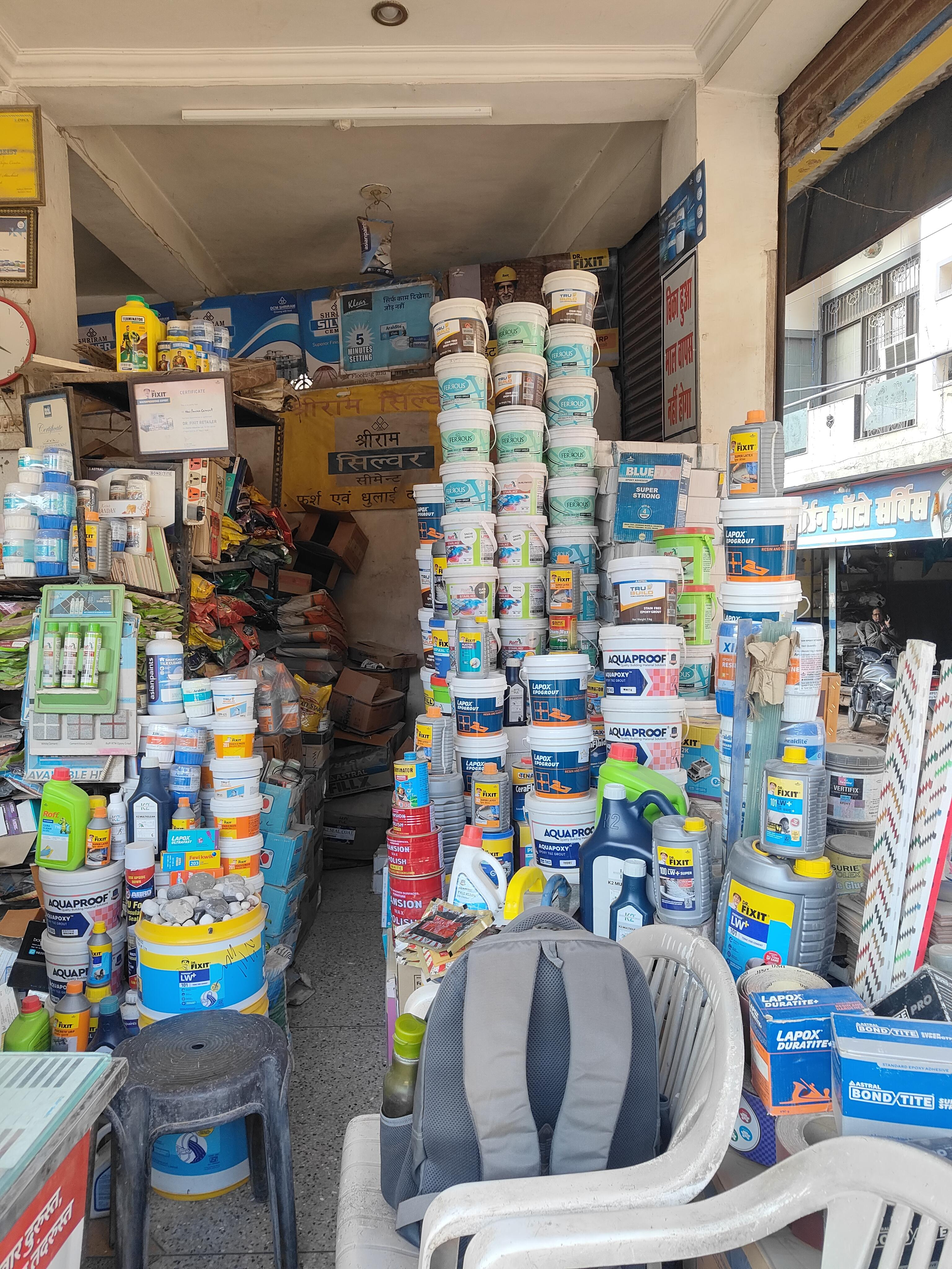Araldite _XIN EPOXY RESIN: (166, 322, 215, 351)
Araldite_XIN EPOXY HARDENER: (144, 723, 176, 765)
Dr. Fixit_101 LW: (715, 838, 836, 979), (760, 747, 826, 858), (652, 814, 712, 925)
Dr. Fixit_302 Super Latex: (546, 557, 580, 616)
Other: (115, 295, 157, 373), (170, 343, 197, 370), (156, 341, 170, 372)
